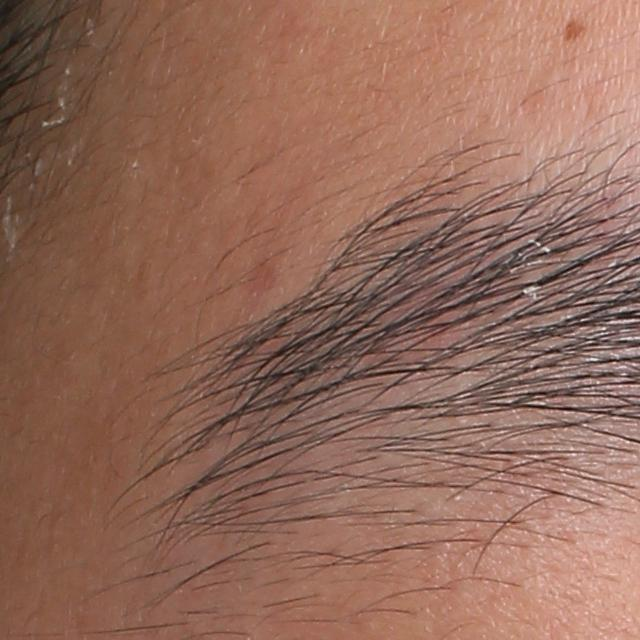nevus: (562, 17, 588, 43)
